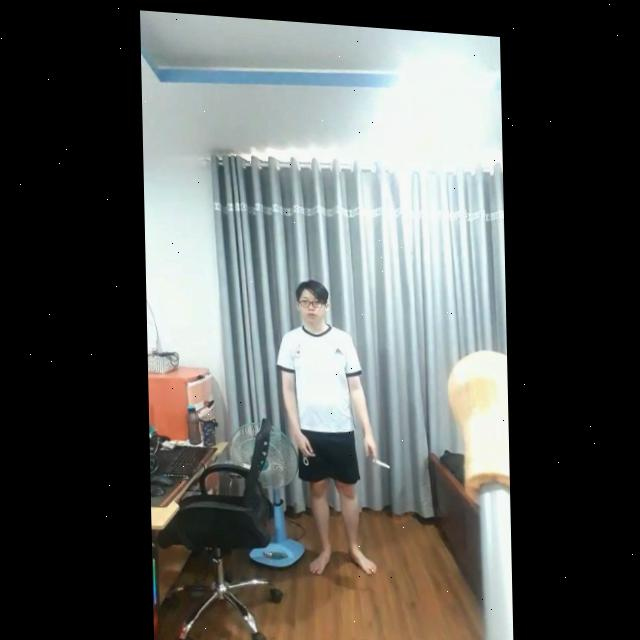cigarette: (373, 453, 391, 465)
